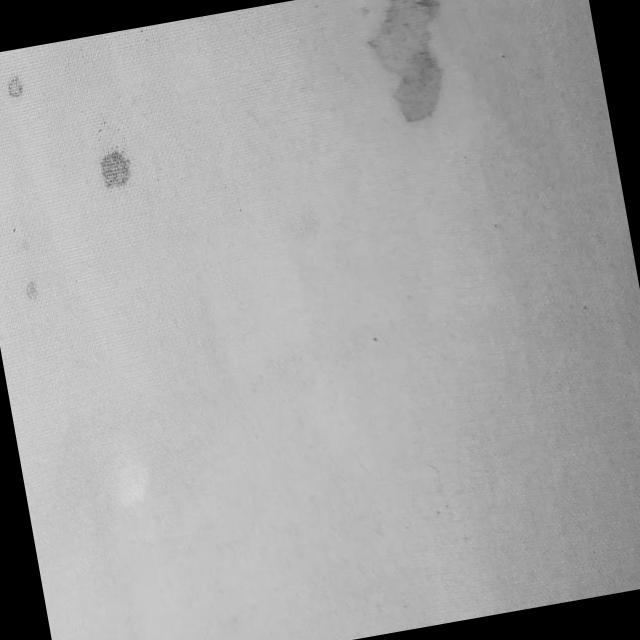Stain: (345, 0, 482, 138), (90, 139, 140, 202), (0, 72, 28, 106), (16, 271, 44, 299)
